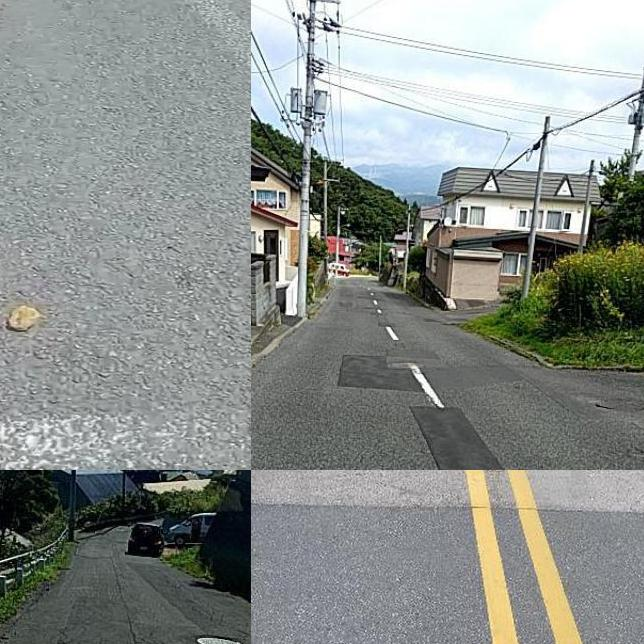Sambungan: (251, 509, 644, 644), (413, 406, 503, 470), (340, 355, 423, 387)
